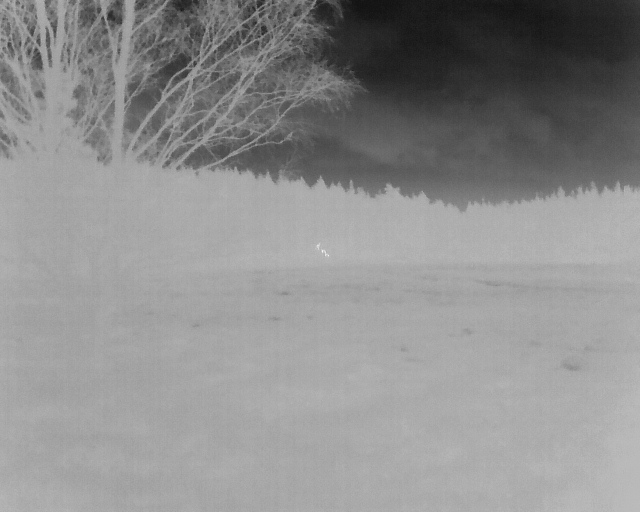Deer: (324, 251, 330, 257), (321, 248, 327, 253), (315, 246, 319, 250), (316, 243, 320, 246)
